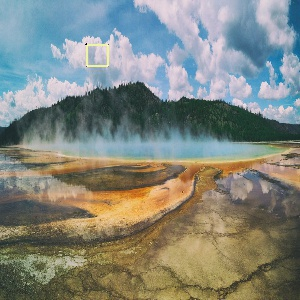square: (85, 43, 110, 67)
